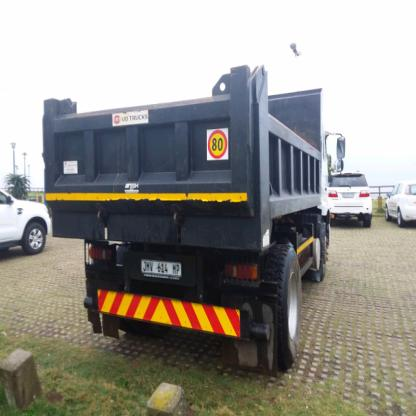dump_truck: (34, 34, 346, 384)
